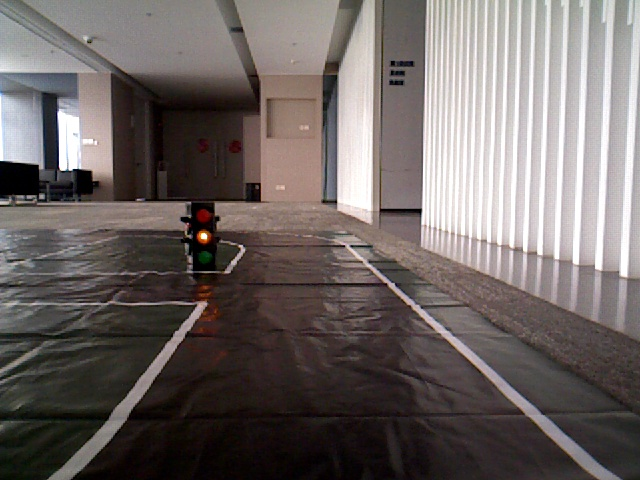yellow: (189, 202, 212, 263)
